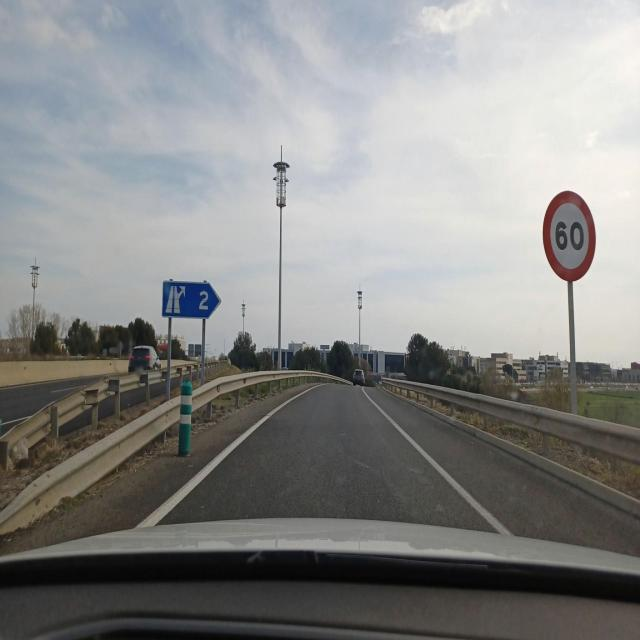car: (128, 344, 161, 373), (352, 368, 364, 386)
